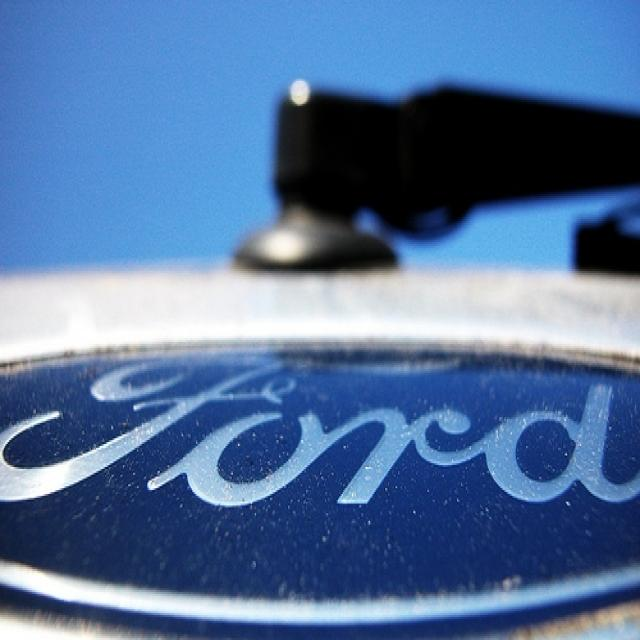ford: (2, 328, 640, 639)
